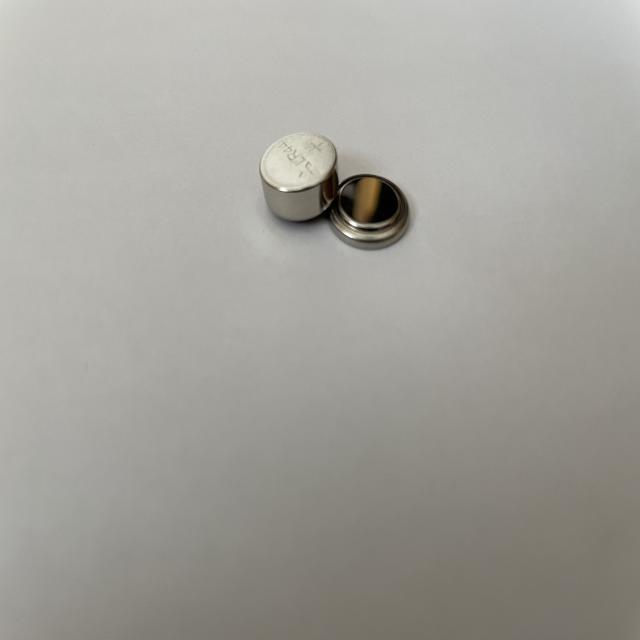COIN: (259, 131, 341, 224), (330, 174, 411, 252)
